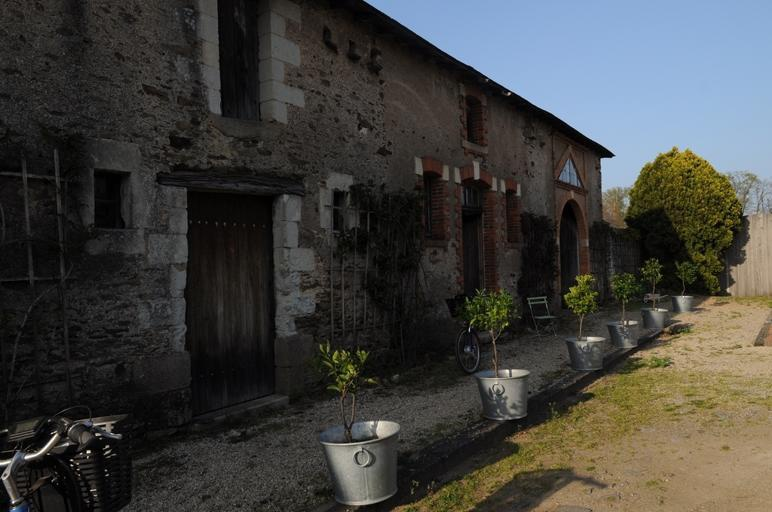non-vehicle: (0, 403, 136, 512), (454, 315, 483, 375)
